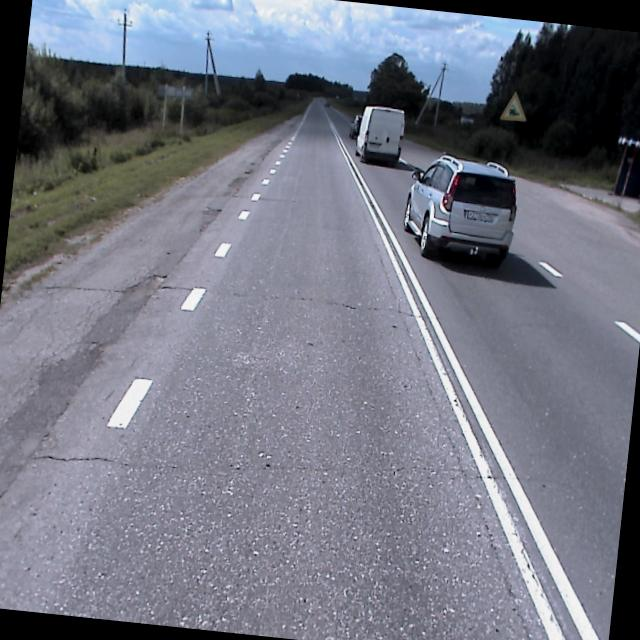road: (0, 94, 640, 640)
